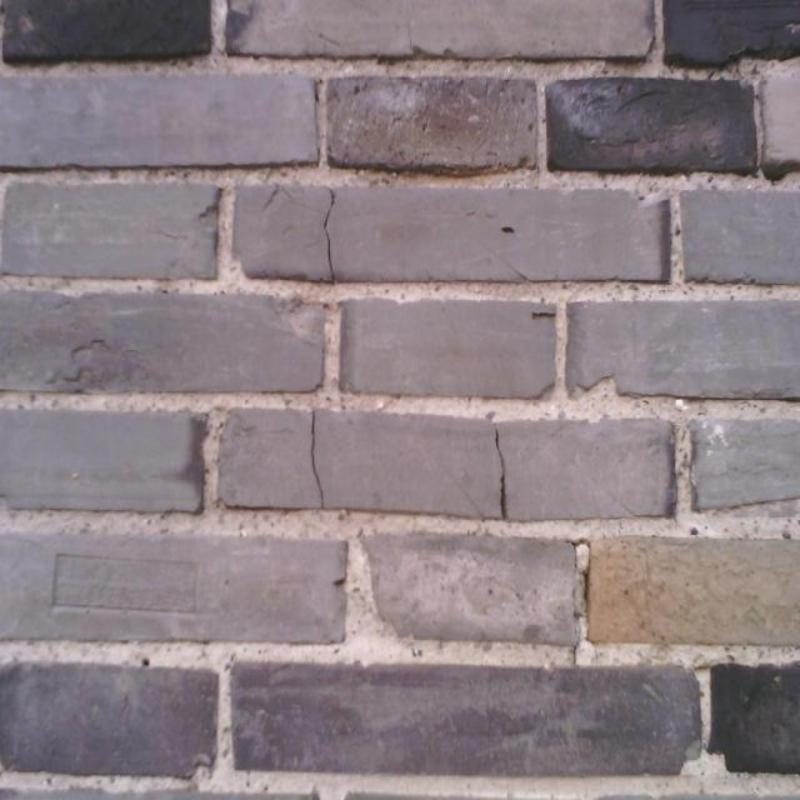crack: (311, 412, 325, 509), (323, 190, 337, 282), (495, 430, 508, 520), (582, 565, 591, 600), (572, 641, 580, 671), (762, 172, 784, 181), (572, 539, 590, 548), (408, 13, 412, 49)
